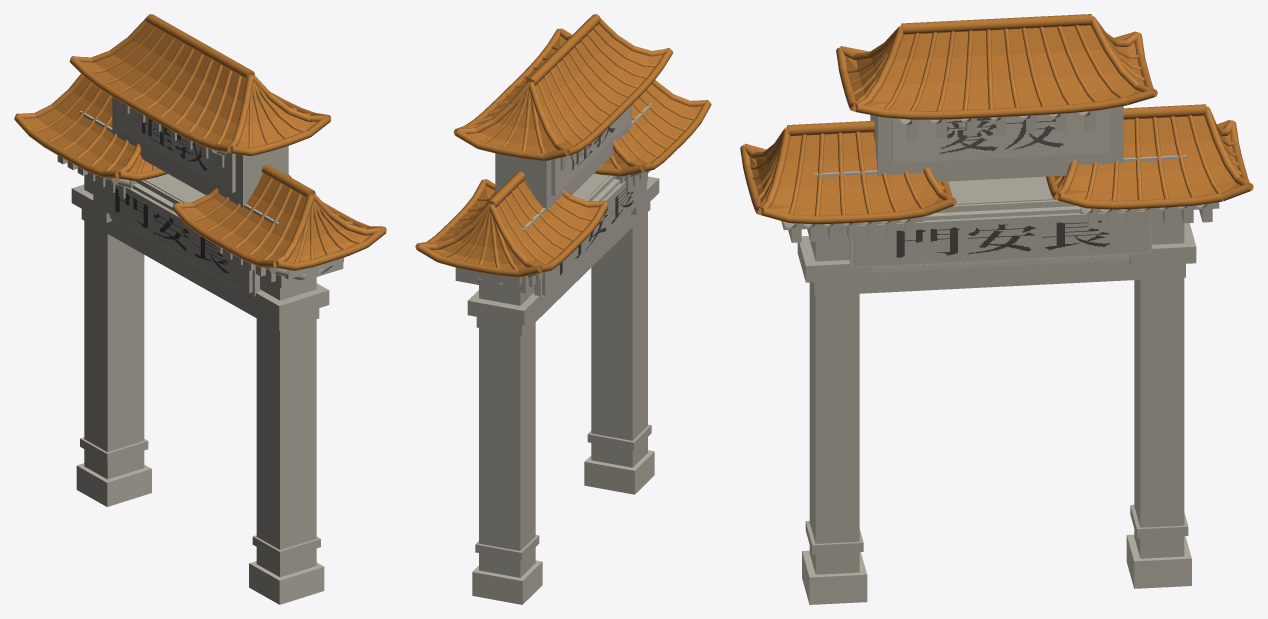
Rendered from nankinmachi-choan.glb.
3 renders of one model, left to right at view 1: azimuth 30°, elevation 25°; view 2: azimuth 150°, elevation 25°; view 3: azimuth 270°, elevation 25°, orthographic. The views are drawn at different scales.
Size of the model in its own units: 3.43 by 9.85 by 8.14.
